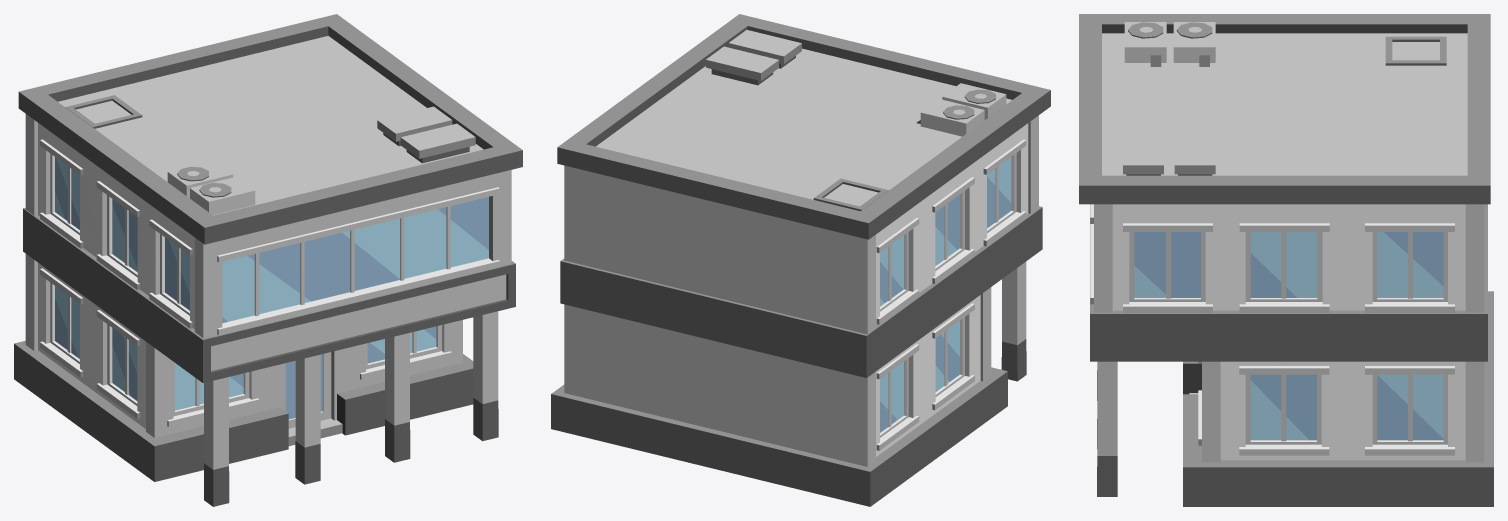
File: bank_005.fbx
3 views of the same model, side by side, from view 1: azimuth 30°, elevation 25°; view 2: azimuth 150°, elevation 25°; view 3: azimuth 270°, elevation 25° (orthographic). The views are drawn at different scales.
Parts seen in each view (by area): view 1: bank_005; view 2: bank_005; view 3: bank_005.
Part boxes in pixels (x1,y1,x2,y2): bank_005: (14, 14, 522, 506); bank_005: (551, 14, 1050, 506); bank_005: (1079, 14, 1493, 506).
Size of the model in its own units: 710 by 613 by 707.
